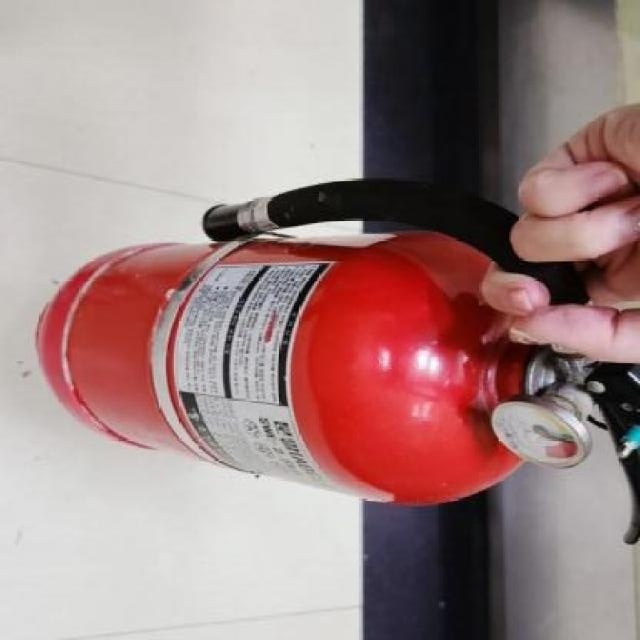fire extinguisher: (37, 178, 640, 544)
